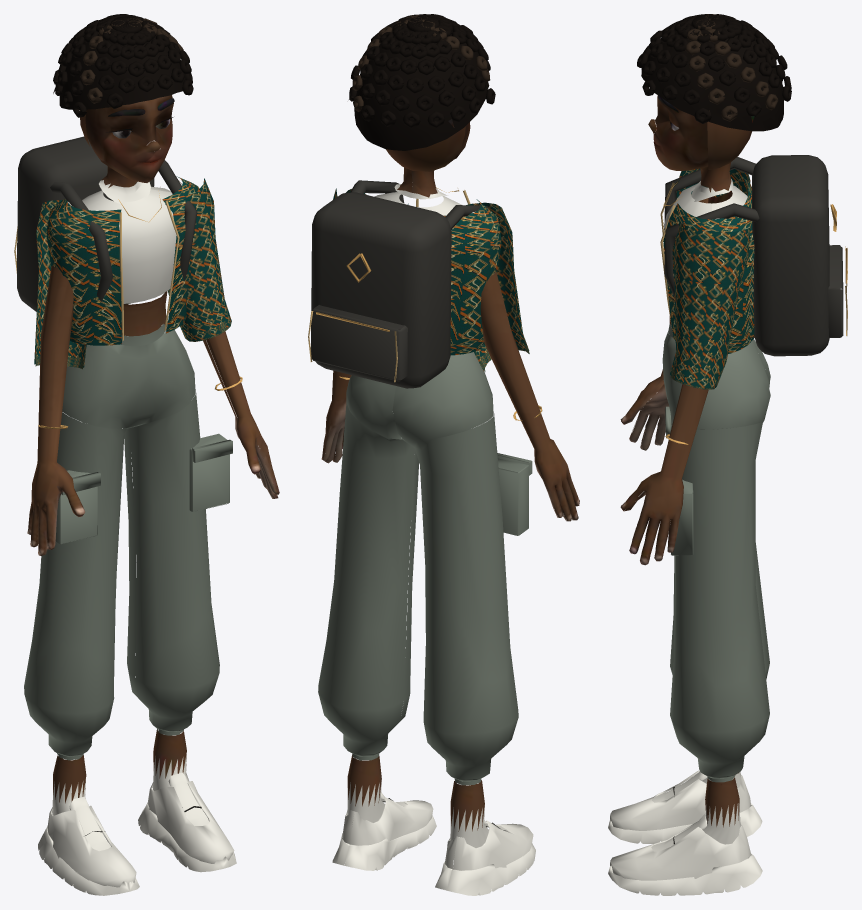
The model's file is character-nia-resident.glb.
The picture shows the model from 3 angles, left to right: view 1: azimuth 30°, elevation 25°; view 2: azimuth 150°, elevation 25°; view 3: azimuth 270°, elevation 25°; orthographic projection. The views are drawn at different scales.
Visible parts, largest first — view 1: Explorer; view 2: Explorer; view 3: Explorer.
Boxes of the visible parts, <box> form: Explorer: <box>14,14,279,895</box>; Explorer: <box>308,14,579,895</box>; Explorer: <box>608,14,847,895</box>.
Bounding box in the file's own units: 0.4978 × 1.64 × 0.426.
9 materials, 2 textured.
